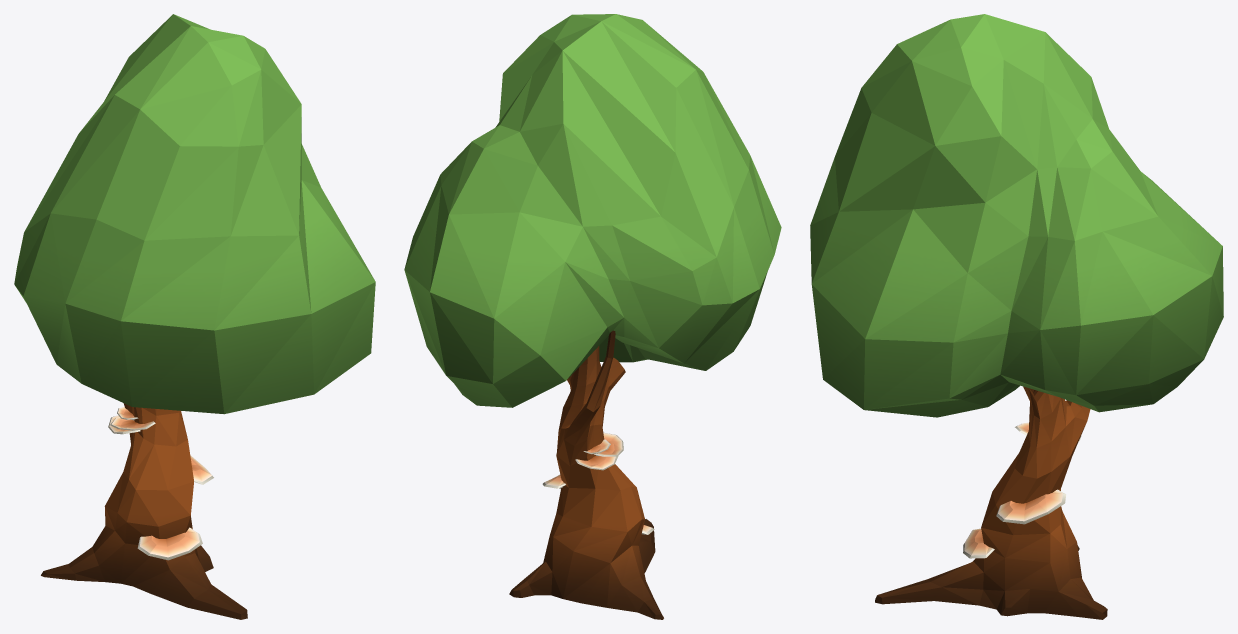
Rendered from Tree-04.FBX.
The picture shows the model from 3 angles, left to right: view 1: azimuth 30°, elevation 25°; view 2: azimuth 150°, elevation 25°; view 3: azimuth 270°, elevation 25°; orthographic projection. The views are drawn at different scales.
Visible parts, largest first — view 1: Tree-04; view 2: Tree-04; view 3: Tree-04.
Part boxes in pixels (<box>): Tree-04: <box>14,14,375,619</box>; Tree-04: <box>404,14,781,619</box>; Tree-04: <box>810,14,1223,619</box>.
Size of the model in its own units: 616 by 1046 by 669.
Materials: 1 (1 with a texture image).
